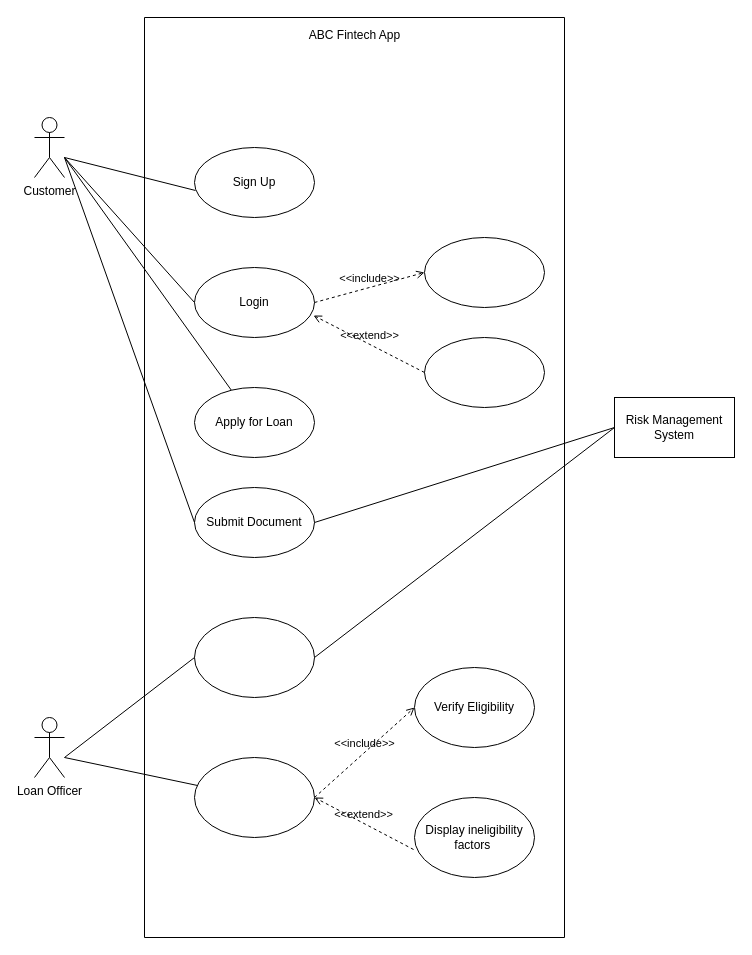
This 752x955 diagram has some shape labels left out. The shapes that lost their labels are listed below. From the top down, each one's centre as x and y in pixels, then its label:
At point 484,272: "Verify Password".
At point 484,372: "Display error message".
At point 254,657: "Check Credit Score".
At point 254,797: "Make a Decision on Loan".
